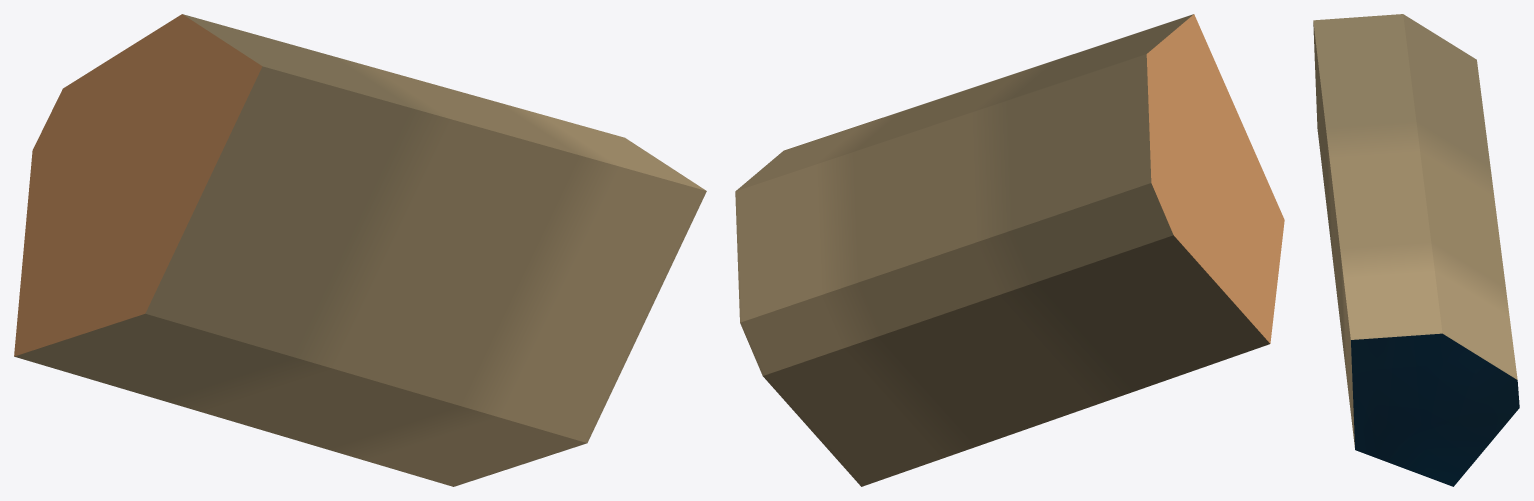
Rendered from 05ea_Trinidad_and_Tobago.glb.
3 views of the same model, side by side, from view 1: azimuth 30°, elevation 25°; view 2: azimuth 150°, elevation 25°; view 3: azimuth 270°, elevation 25° (orthographic). The views are drawn at different scales.
Visible parts, largest first — view 1: part_0; view 2: part_0; view 3: part_0.
Part boxes in pixels (x1=…): part_0: x1=14, y1=14, x2=706, y2=486; part_0: x1=735, y1=14, x2=1284, y2=486; part_0: x1=1313, y1=14, x2=1519, y2=486.
Size of the model in its own units: 0.2397 by 0.2052 by 0.1025.
1 material, 1 textured.
